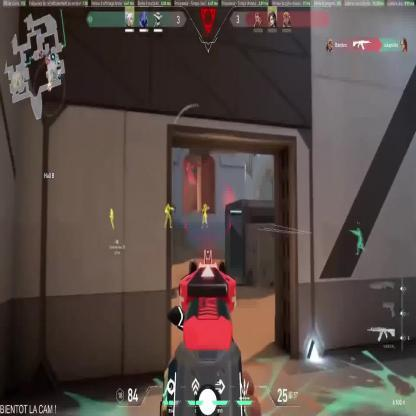enemy: (164, 203, 174, 228), (201, 204, 208, 228), (108, 206, 114, 229)
enemy_head: (203, 203, 207, 209), (166, 203, 170, 207), (110, 208, 113, 212)
